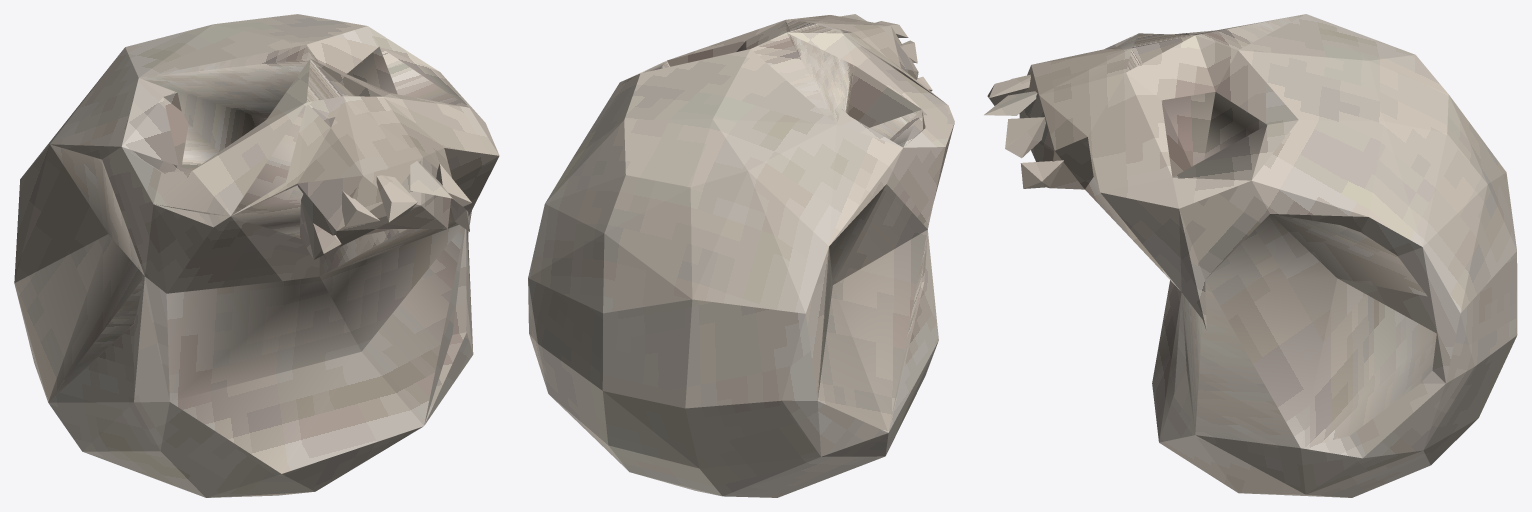
File: item_quest_gy_skull.glb
3 views of the same model, side by side, from view 1: azimuth 30°, elevation 25°; view 2: azimuth 150°, elevation 25°; view 3: azimuth 270°, elevation 25° (orthographic). The views are drawn at different scales.
Parts seen in each view (by area): view 1: Skull; view 2: Skull; view 3: Skull.
Boxes of the visible parts, x1,y1,x2,y2 form: Skull: (14, 14, 499, 497); Skull: (528, 14, 954, 497); Skull: (984, 14, 1517, 497).
Bounding box in the file's own units: 0.236 × 0.2751 × 0.3063.
Materials: 1 (1 with a texture image).
